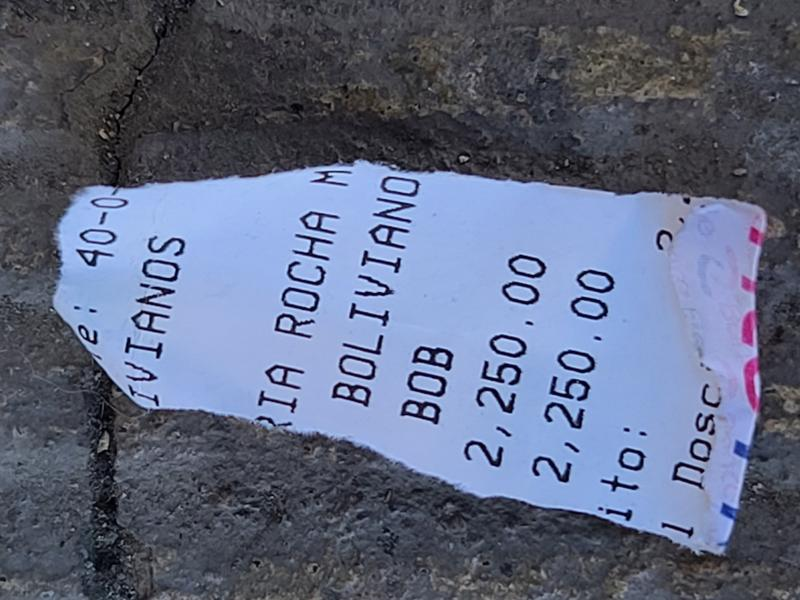papel: (50, 162, 769, 556)
